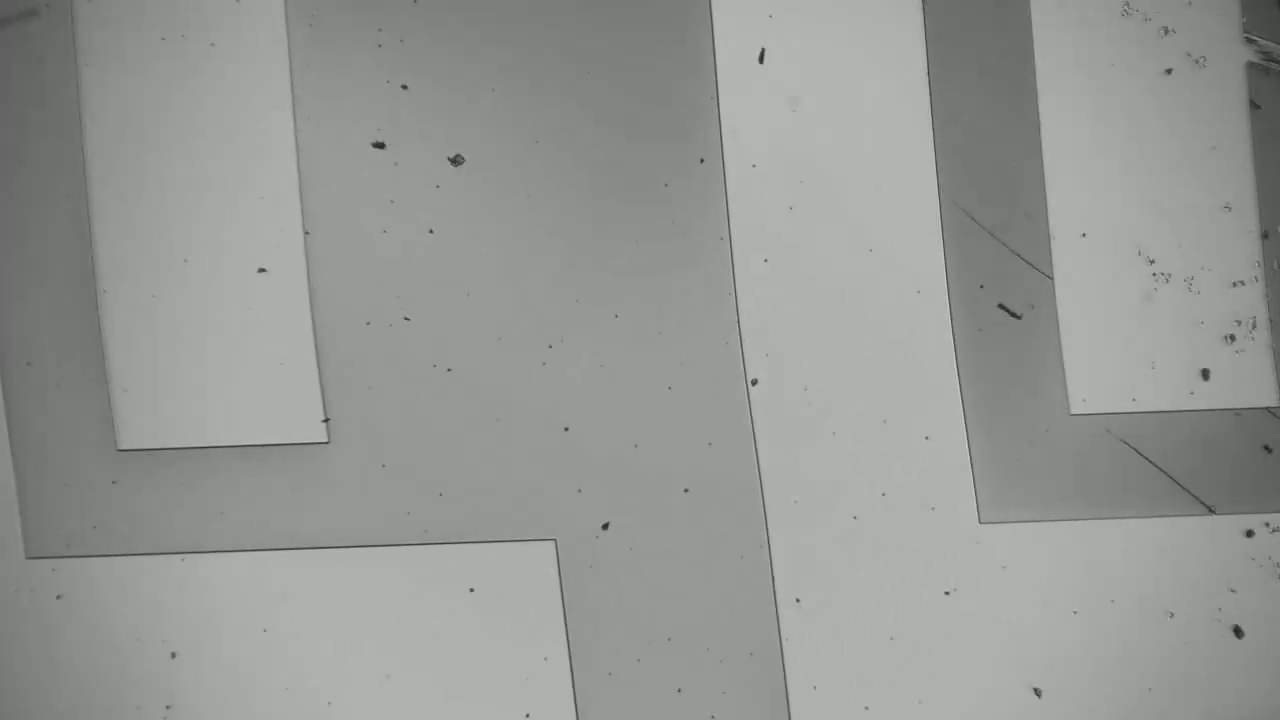Short_circuit: (1212, 19, 1280, 82)
scratch: (961, 201, 1047, 288), (1121, 441, 1222, 509)
